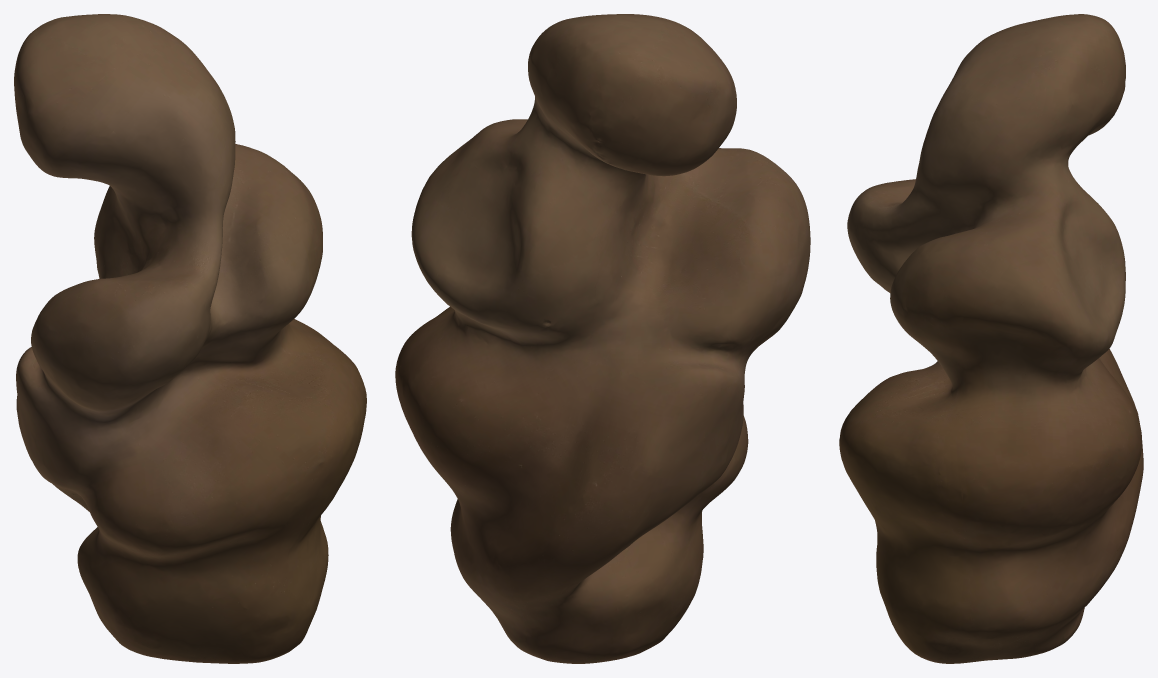
Rendered from skulptur-2.glb.
The picture shows the model from 3 angles, left to right: view 1: azimuth 30°, elevation 25°; view 2: azimuth 150°, elevation 25°; view 3: azimuth 270°, elevation 25°; orthographic projection. The views are drawn at different scales.
Bounding box in the file's own units: 1.08 × 1.9 × 0.9042.
1 material, 1 textured.
